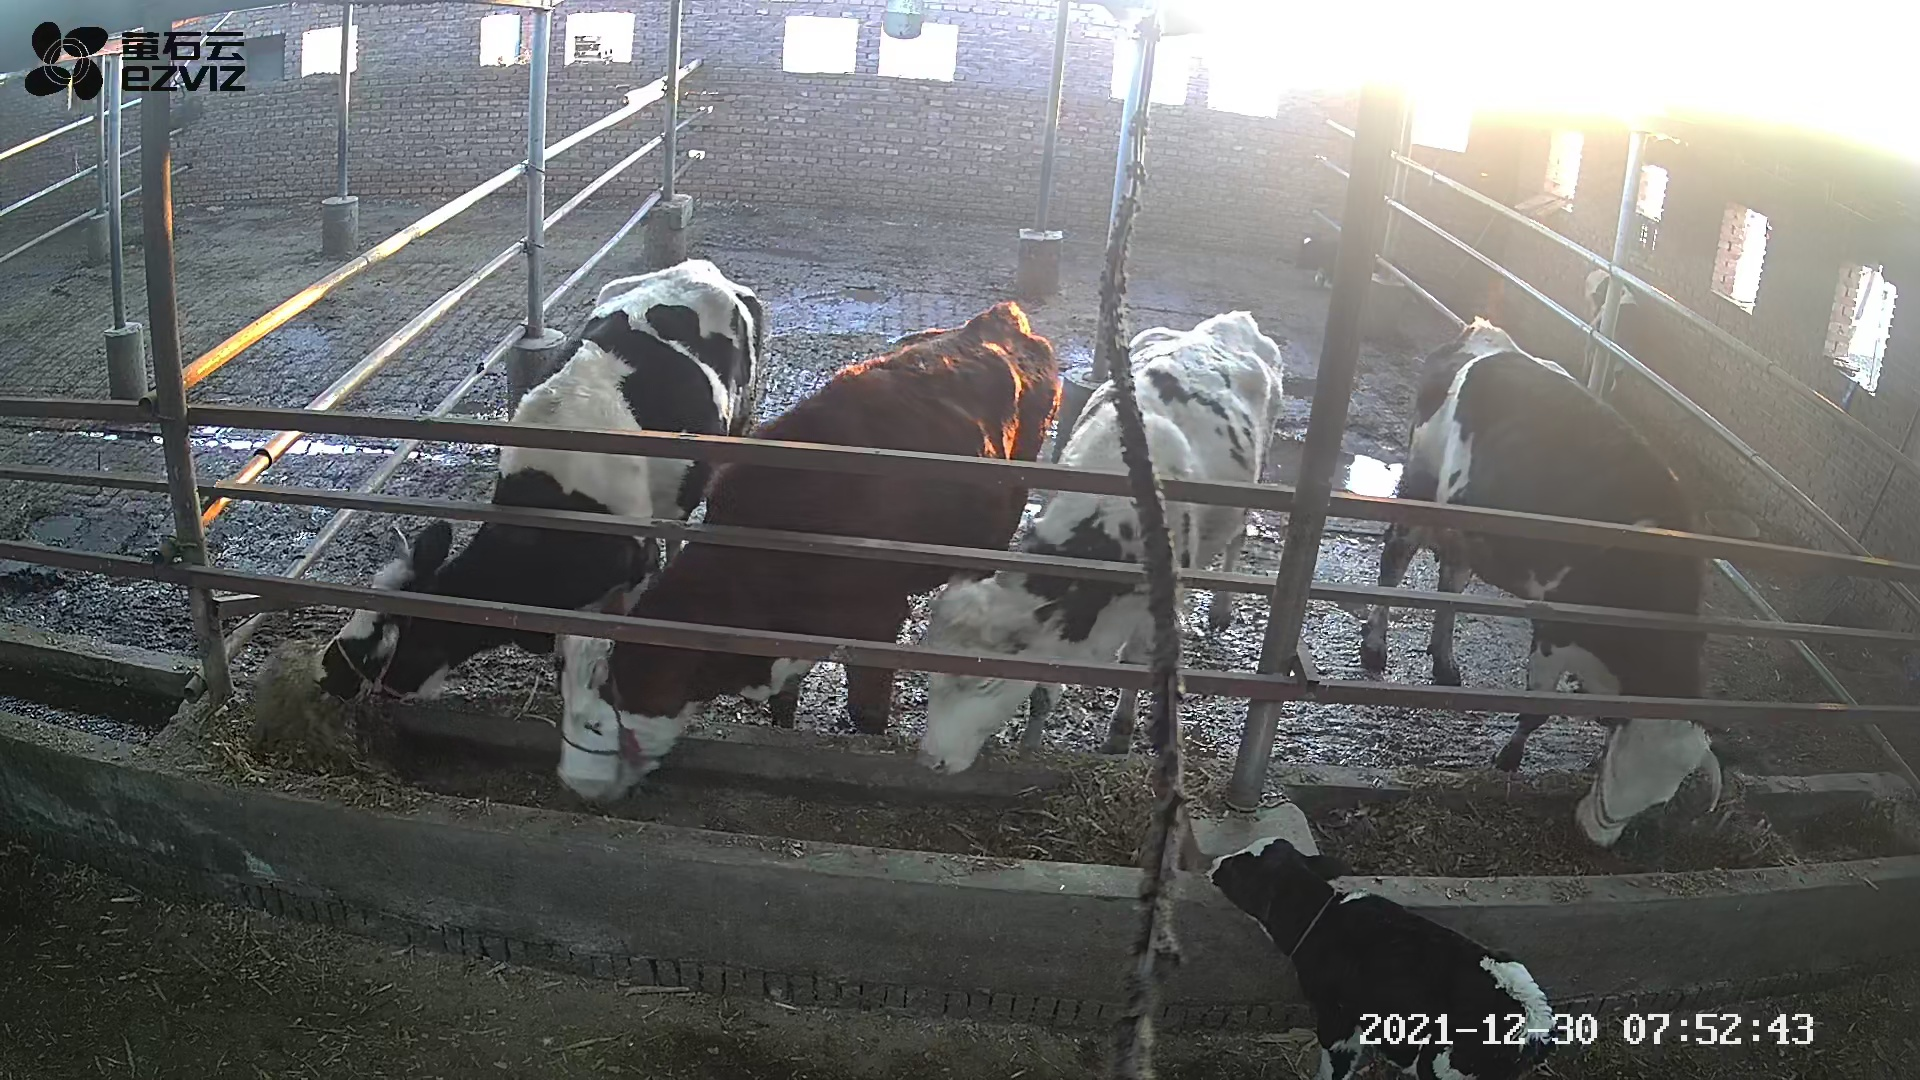cow: (551, 297, 1062, 810), (1356, 311, 1763, 851), (306, 258, 761, 708), (916, 306, 1283, 778)
